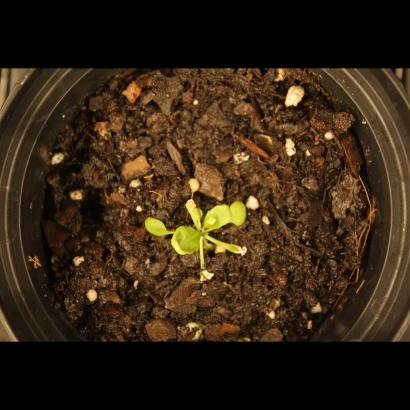leaf: (171, 221, 199, 255), (139, 213, 171, 239), (184, 206, 208, 229), (229, 203, 252, 226)
